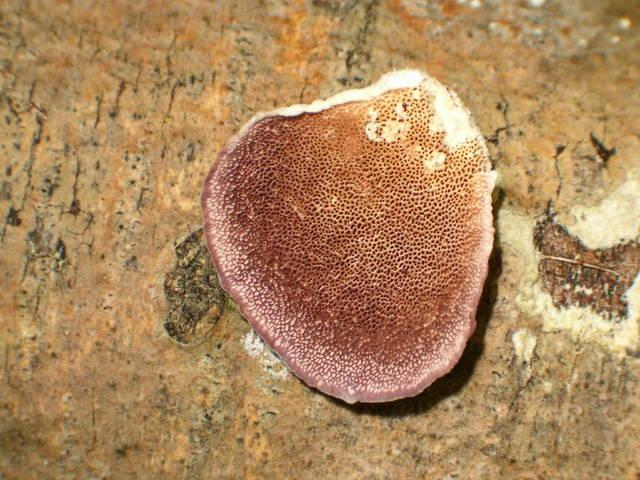Non-edible Mushroom: (198, 66, 499, 405)
